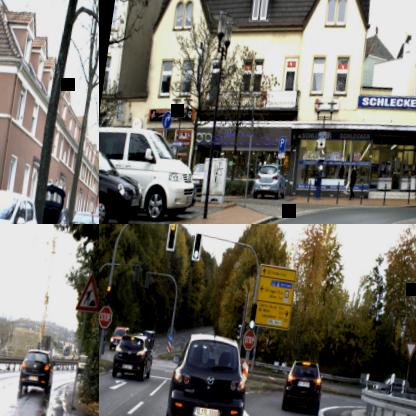CONSTRUCTION: (74, 271, 99, 313)
STOP: (241, 328, 256, 350), (99, 304, 112, 328)
give way: (403, 339, 416, 359)
go right or straight: (160, 109, 172, 130)
keep right: (167, 332, 173, 342)
